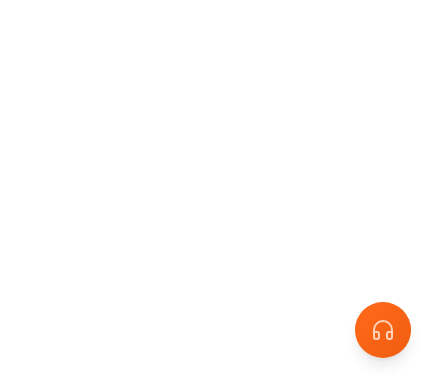
Test case: FloatingCallButton › should show error when microphone permission is denied
What coordinates should you click on to do the following:
click the button named "Open voice call"
I would click on:
 (383, 330)
Its box is [355,302,411,358].
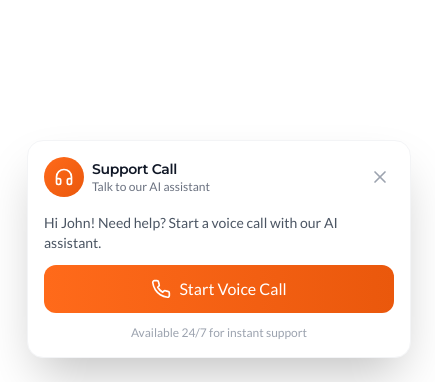
Result: the button "Start Voice Call" is shown
What coordinates should you click on to do the following:
click the button "Start Voice Call"
I would click on:
 (219, 289)
Its box is [44,265,394,313].
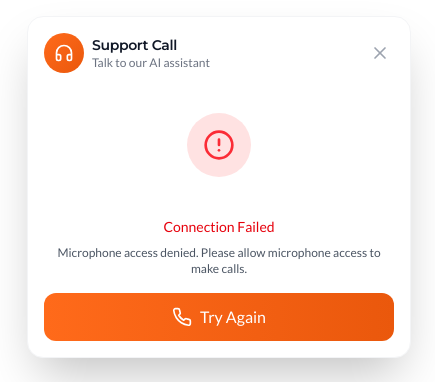
Result: the text "Microphone access denied" is shown at [57,245,380,276]
